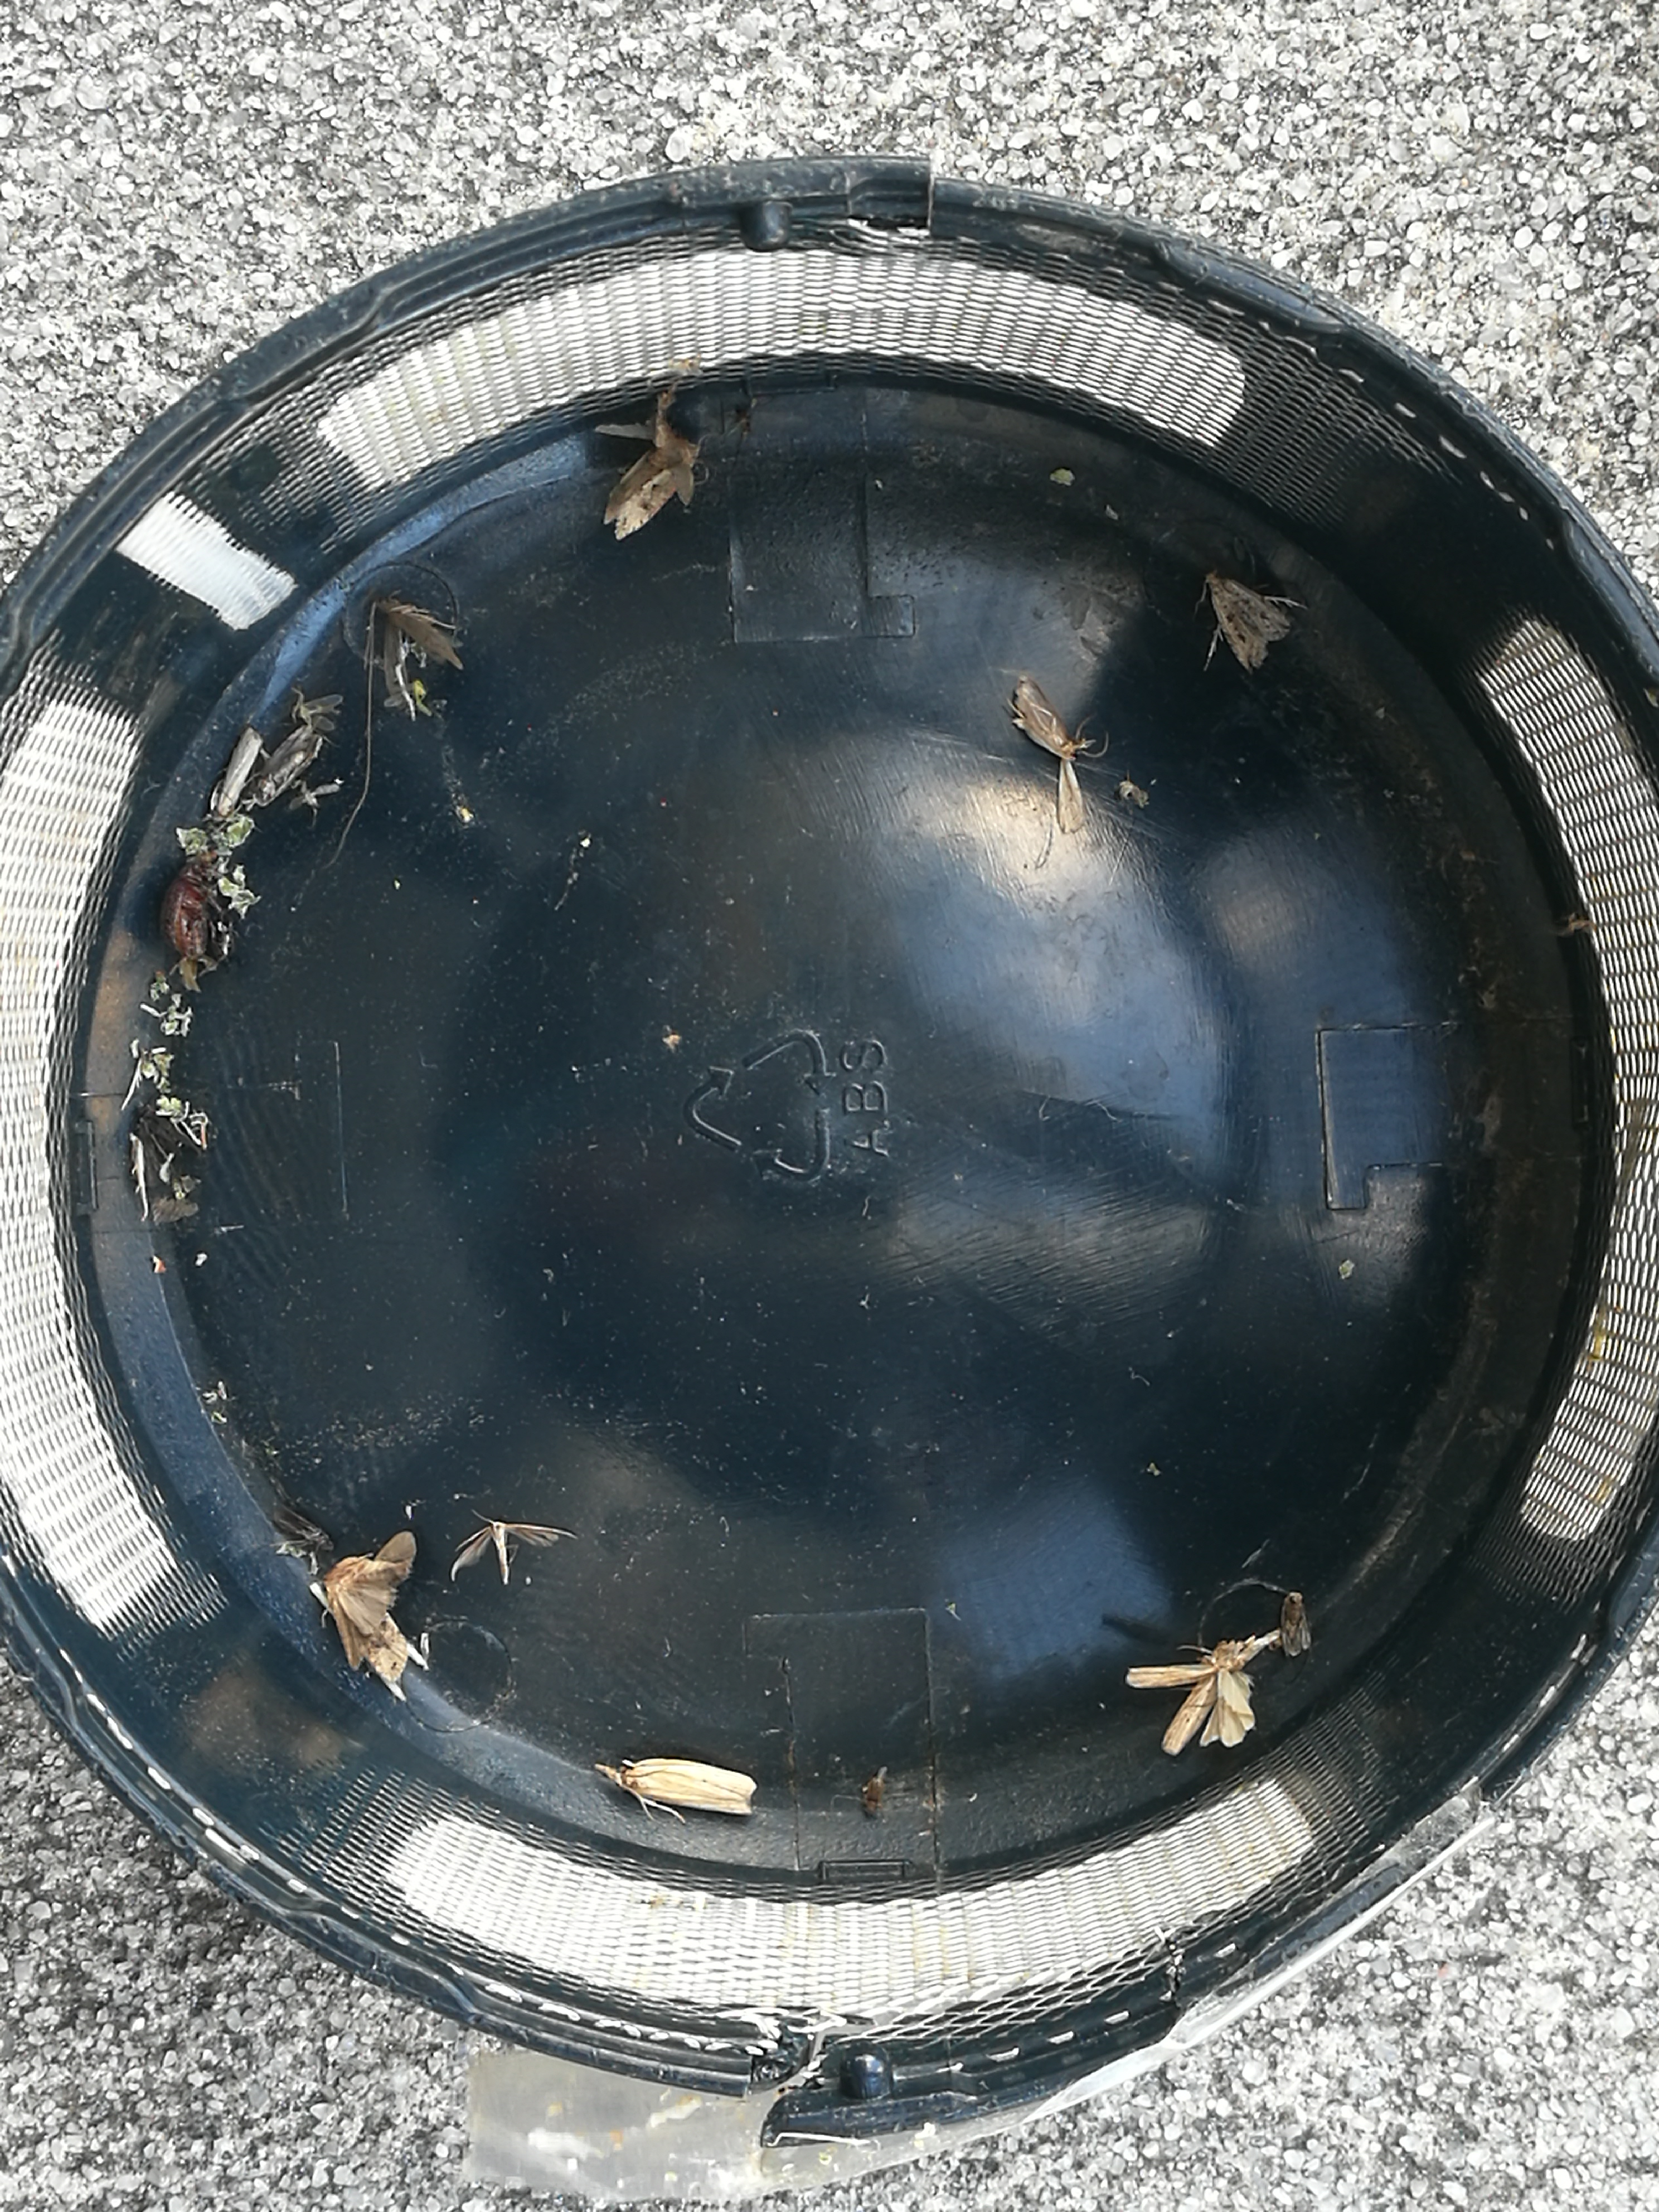beetle: (159, 850, 211, 960)
mosquito: (601, 439, 701, 540), (592, 1757, 756, 1815), (254, 730, 322, 806), (211, 730, 260, 822), (1281, 1594, 1310, 1656)
moth: (1126, 1641, 1253, 1757), (326, 1533, 416, 1672), (1208, 571, 1295, 671), (380, 597, 464, 698), (1007, 678, 1075, 758), (295, 693, 343, 730)
